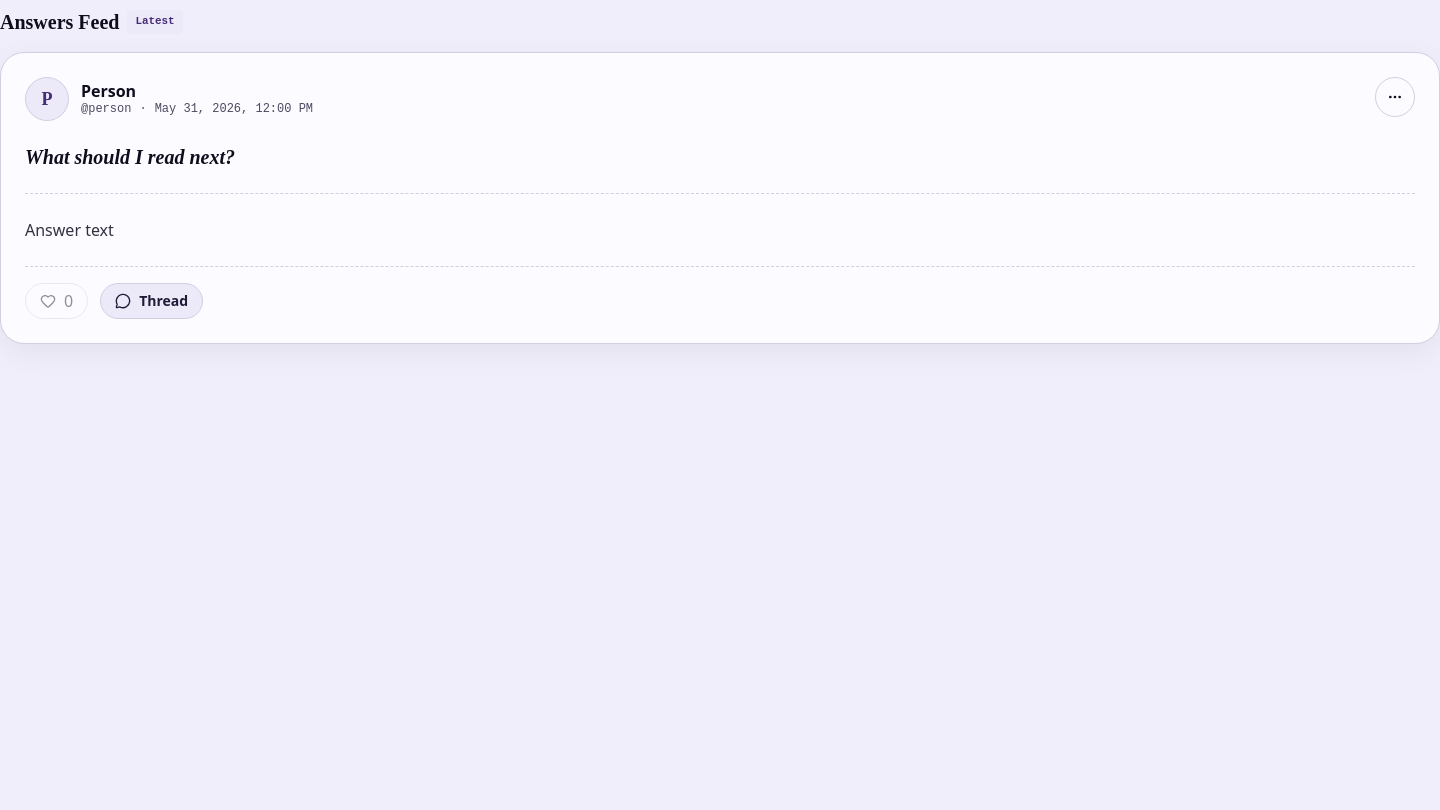
Scenario: public profile components › moves reporting into the answer actions menu
This screenshot has width=1440, height=810.
expect the button "Report answer" is not shown: met
Press the mouse on the button named "answer actions": (1395, 97) [1375, 77, 1415, 117]
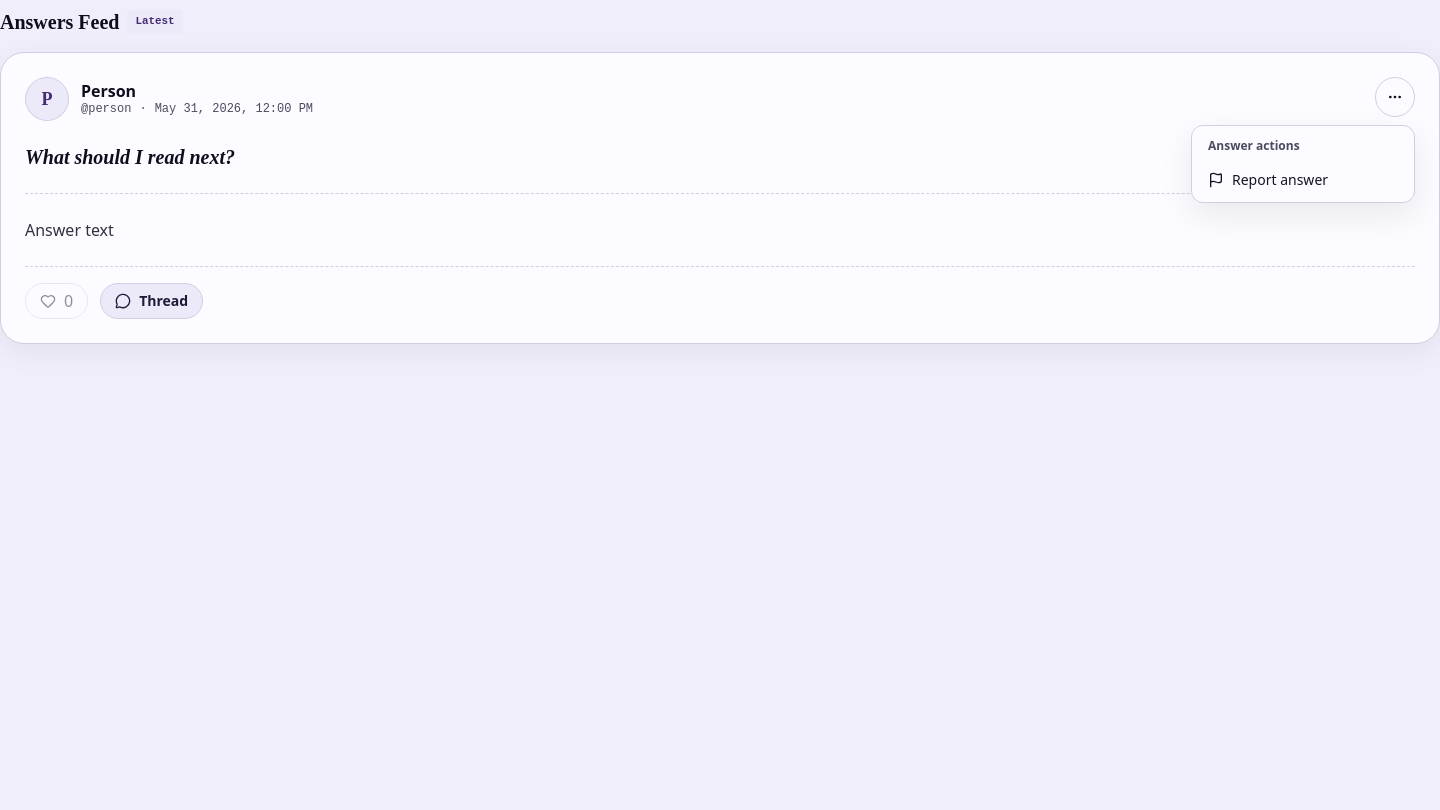
Click the menu item "Report answer": (1268, 180) [1208, 170, 1328, 189]
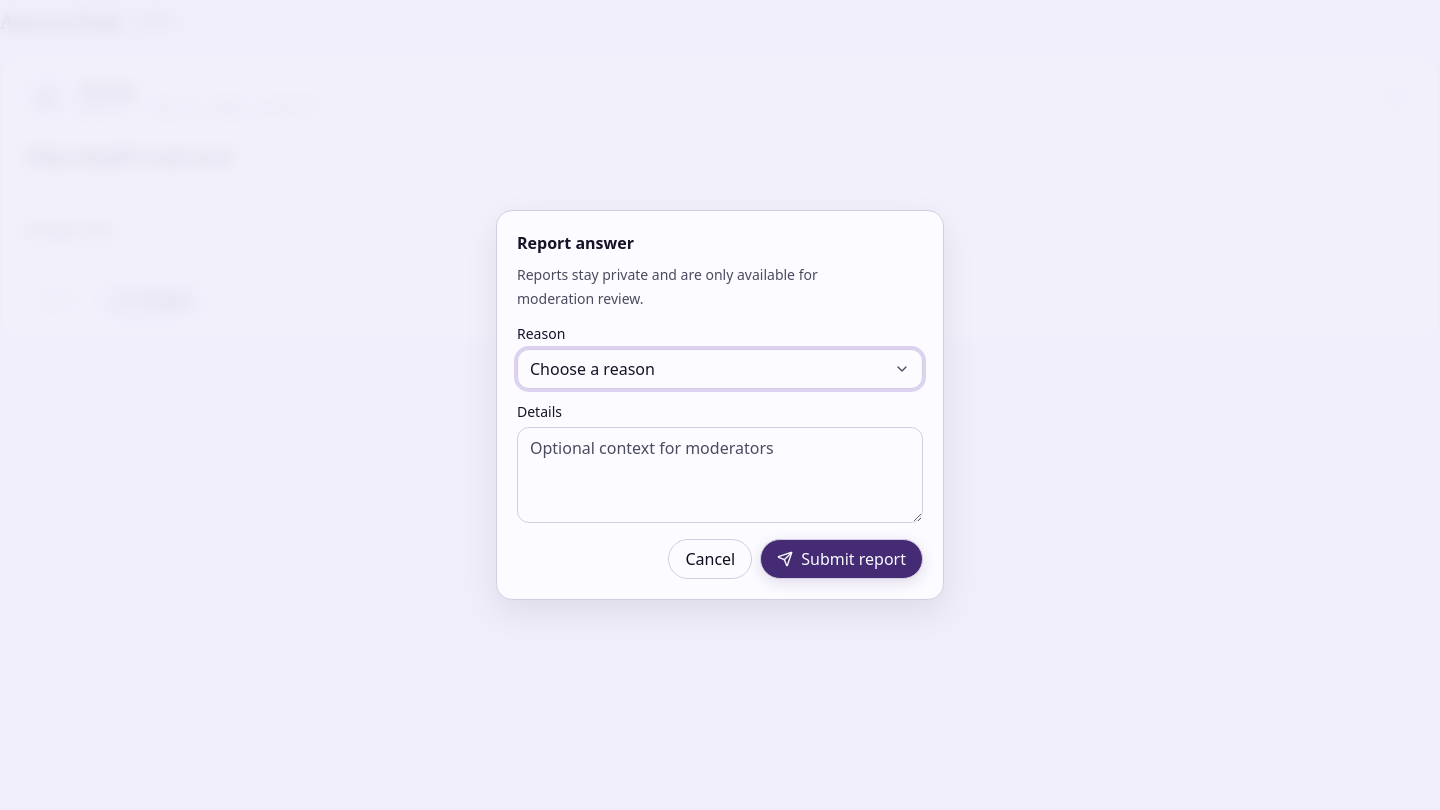
expect the dialog "Report answer" is shown: met, box [496, 210, 944, 600]
